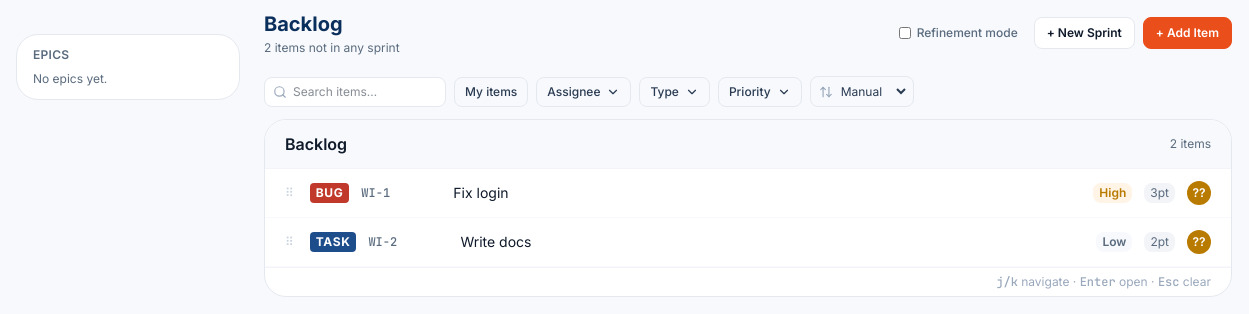
BacklogView › text search narrows the backlog list
The width and height of the screenshot is (1249, 314).
Expected: the button "Fix login" is shown, [453, 184, 509, 201]
Expected: the button "Write docs" is shown, [460, 233, 531, 250]
In the search field labelled "Search items…": (365, 92) [293, 78, 437, 106], type "docs"
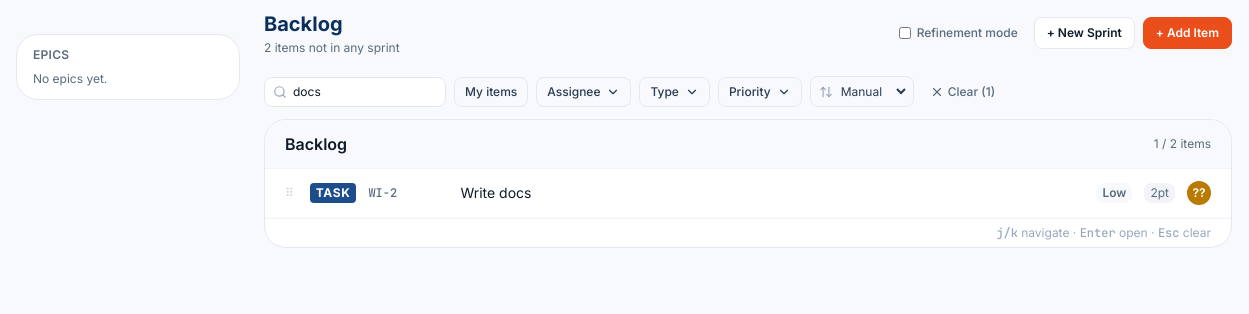
Expected: the button "Write docs" is shown, [460, 184, 531, 201]
Result: the button "Fix login" is gone
